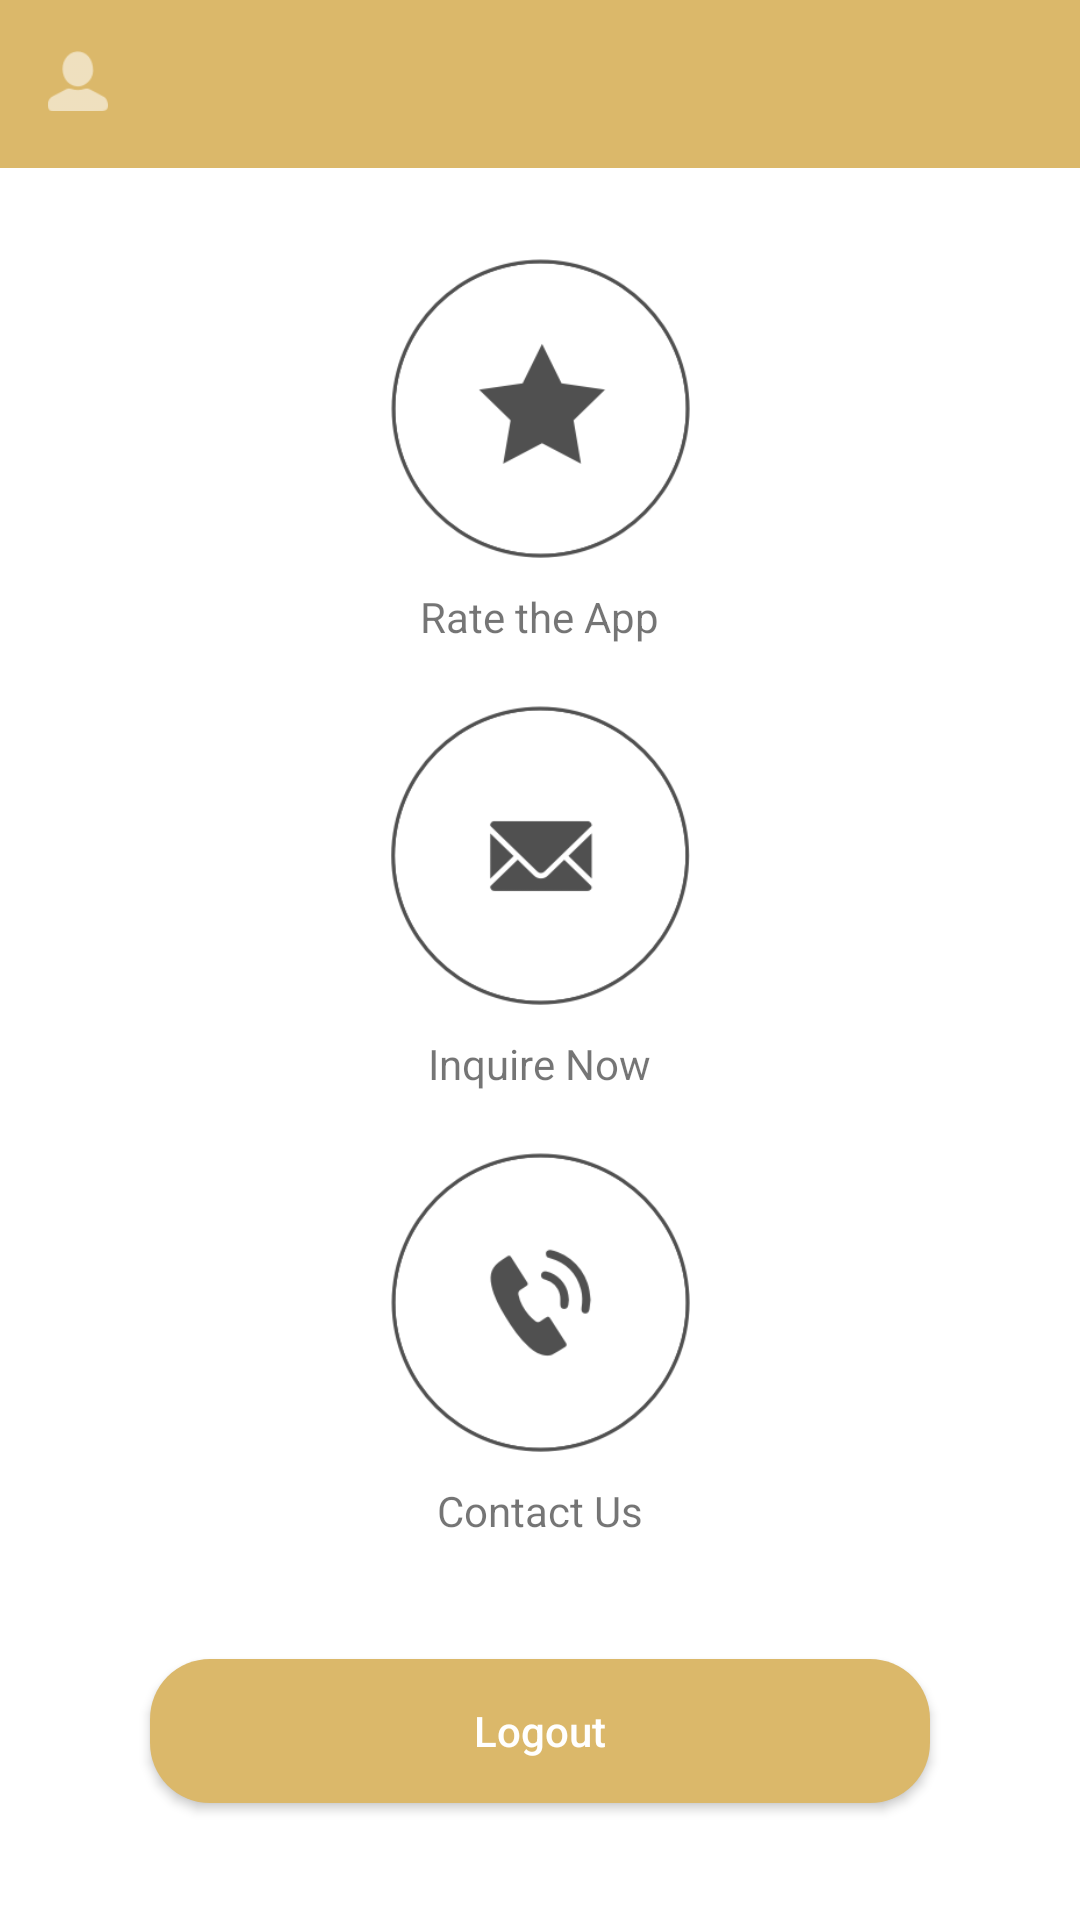

Where to tap for icons on this 1080 x 1920 app screen, as (x=x, y=y):
profile: (x=78, y=81)
